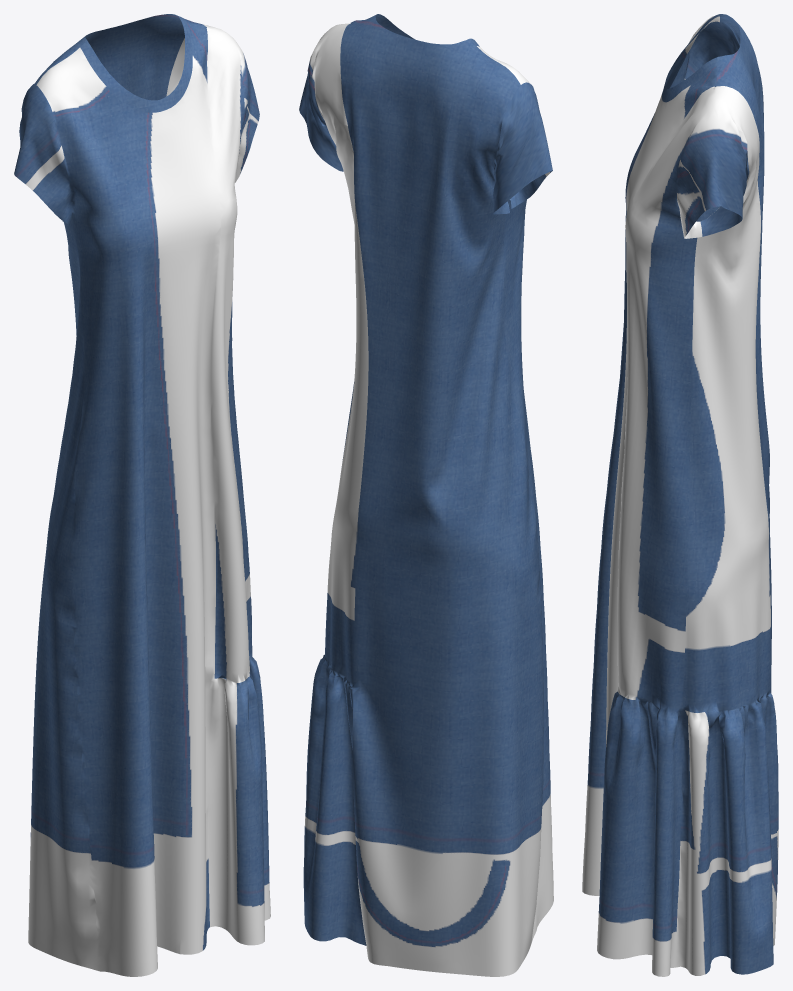
Rendered from vsModels-v2.glb.
The picture shows the model from 3 angles, left to right: view 1: azimuth 30°, elevation 25°; view 2: azimuth 150°, elevation 25°; view 3: azimuth 270°, elevation 25°; orthographic projection. The views are drawn at different scales.
Visible parts, largest first — view 1: 前片右, 后片右, 前片左, 前裙片, 右袖, 领圈, 左袖; view 2: 后片右, 后裙片, 后片左, 前片右, 右袖, 左袖; view 3: 后片左, 前片左, 后裙片, 前裙片, 前片右, 左袖, 后片右, 右袖, 领圈.
Boxes of the visible parts, bbox=[...] form: 前片右: bbox=[36, 22, 221, 976]; 后片右: bbox=[28, 14, 206, 971]; 前片左: bbox=[206, 28, 252, 682]; 前裙片: bbox=[208, 657, 270, 945]; 右袖: bbox=[14, 84, 73, 224]; 领圈: bbox=[80, 18, 192, 112]; 左袖: bbox=[234, 39, 259, 182]; 后片右: bbox=[340, 14, 543, 976]; 后裙片: bbox=[303, 654, 366, 945]; 后片左: bbox=[313, 23, 368, 688]; 前片右: bbox=[377, 22, 553, 930]; 右袖: bbox=[493, 82, 552, 214]; 左袖: bbox=[299, 35, 343, 171]; 后片左: bbox=[683, 86, 770, 712]; 前片左: bbox=[617, 86, 716, 711]; 后裙片: bbox=[675, 694, 775, 975]; 前裙片: bbox=[597, 691, 683, 976]; 前片右: bbox=[582, 16, 719, 895]; 左袖: bbox=[677, 113, 749, 238]; 后片右: bbox=[696, 14, 778, 945]; 右袖: bbox=[684, 21, 740, 79]; 领圈: bbox=[662, 14, 719, 102].
Size of the model in its own units: 0.4646 by 1.64 by 0.3235.
Materials: 1 (1 with a texture image).
